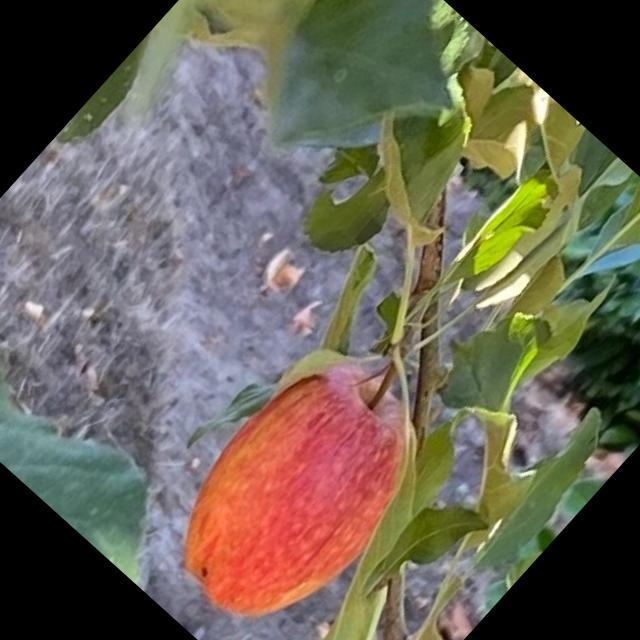Apples: (143, 335, 451, 639)
